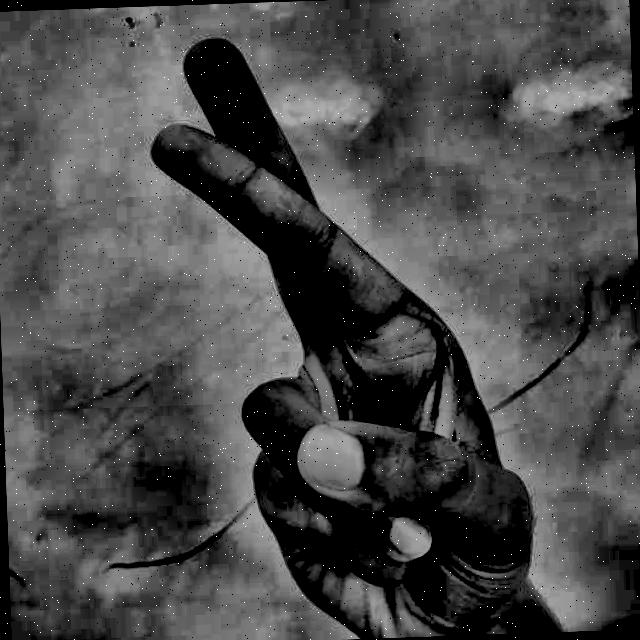Ra: (108, 14, 550, 640)
